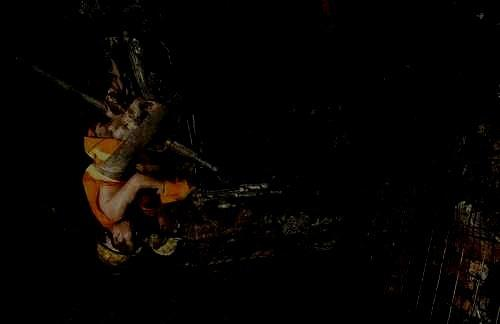helmet: (96, 220, 141, 266), (149, 216, 182, 256)
